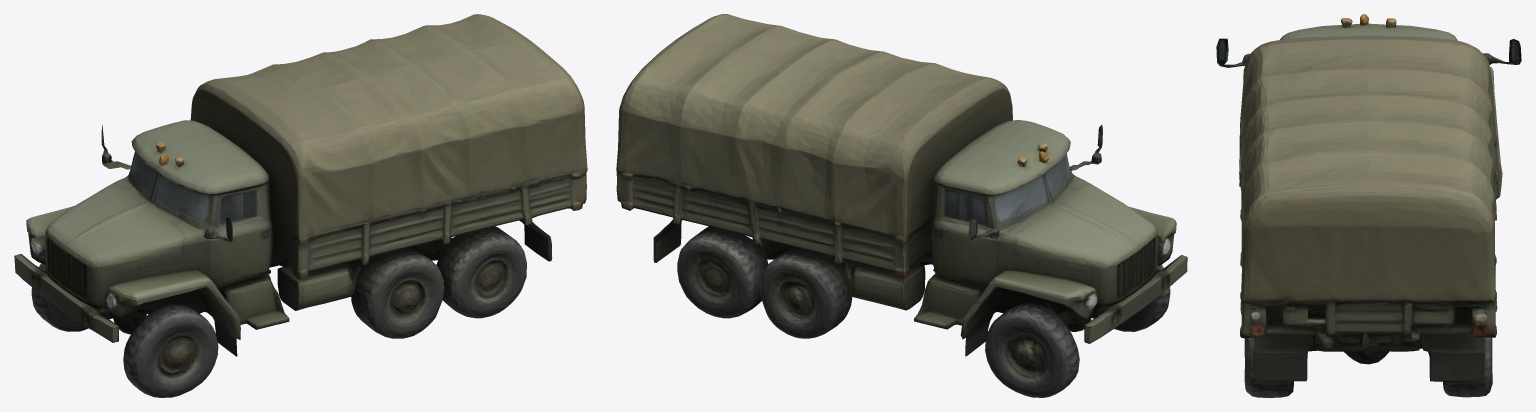
The model's file is truck.glb.
3 renders of one model, left to right at view 1: azimuth 30°, elevation 25°; view 2: azimuth 150°, elevation 25°; view 3: azimuth 270°, elevation 25°, orthographic. The views are drawn at different scales.
Parts seen in each view (by area): view 1: geometry_0; view 2: geometry_0; view 3: geometry_0.
Part boxes in pixels (x1,y1,x2,y2): geometry_0: (14,14,587,397); geometry_0: (616,14,1187,397); geometry_0: (1216,14,1521,397).
Size of the model in its own units: 0.9997 by 0.4555 by 0.4836.
Materials: 1 (1 with a texture image).
